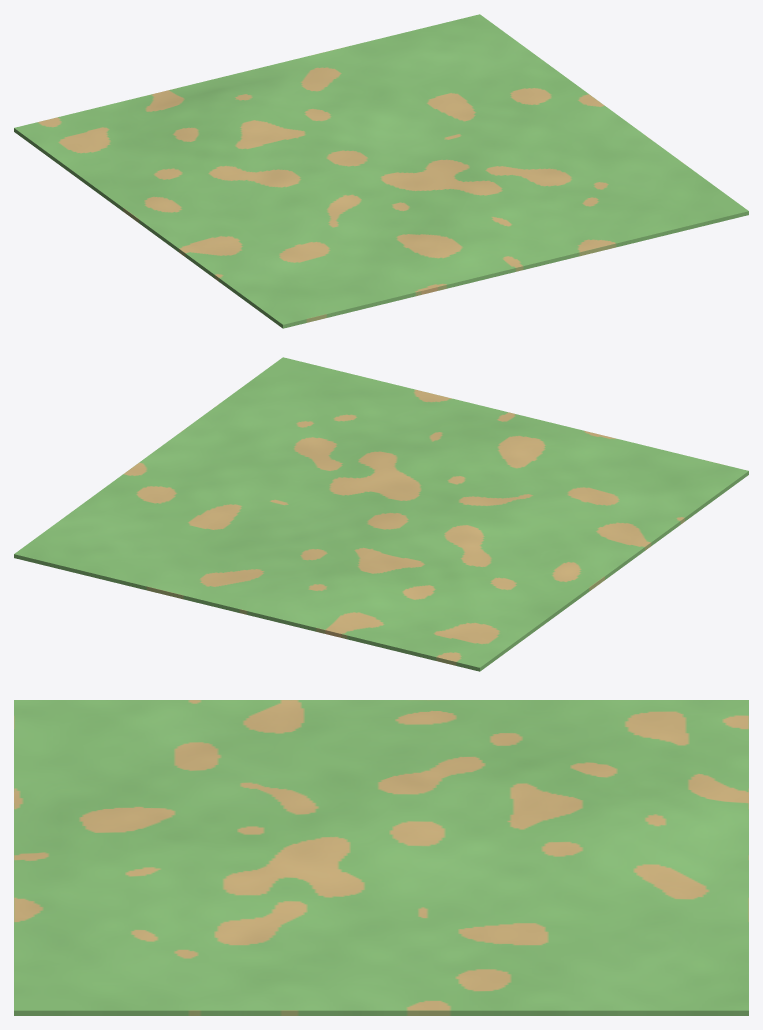
The model's file is Grass_Flat_12.obj.
3 views of the same model, one above another, from view 1: azimuth 30°, elevation 25°; view 2: azimuth 150°, elevation 25°; view 3: azimuth 270°, elevation 25° (orthographic). The views are drawn at different scales.
Size of the model in its own units: 10 by 0.2737 by 10.
Materials: 1 (1 with a texture image).
